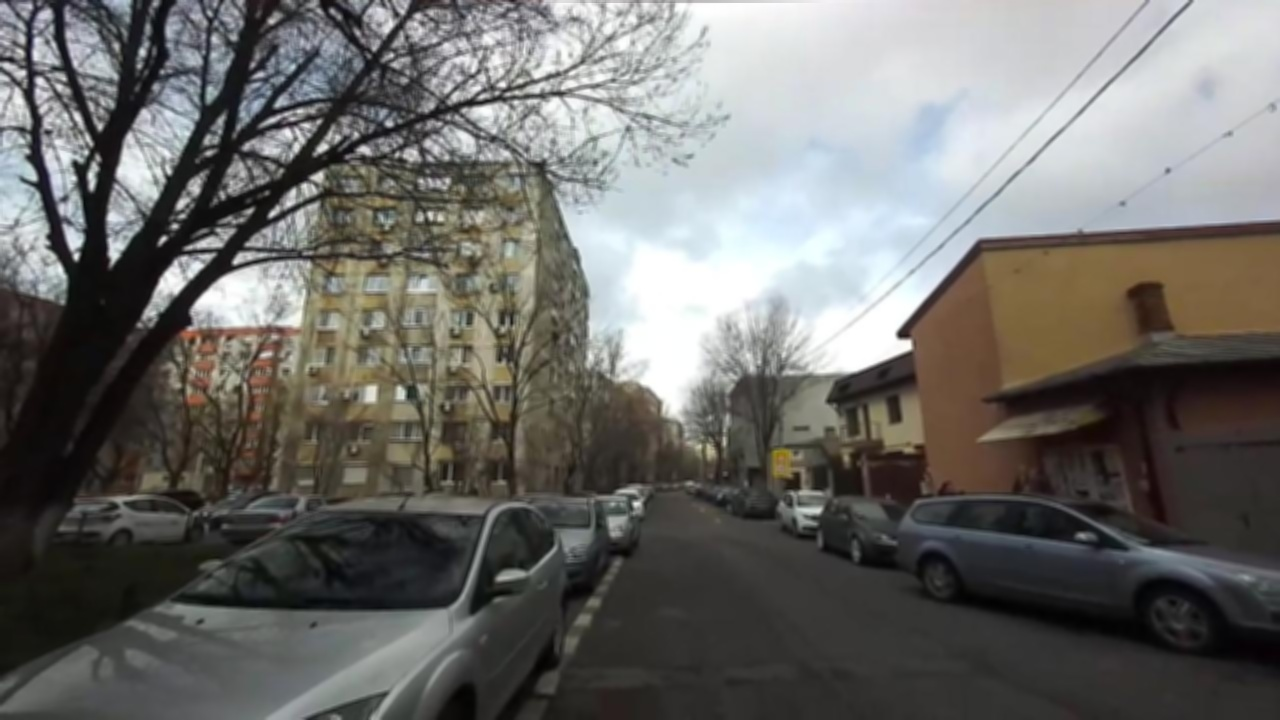pothole: (658, 663, 758, 692)
